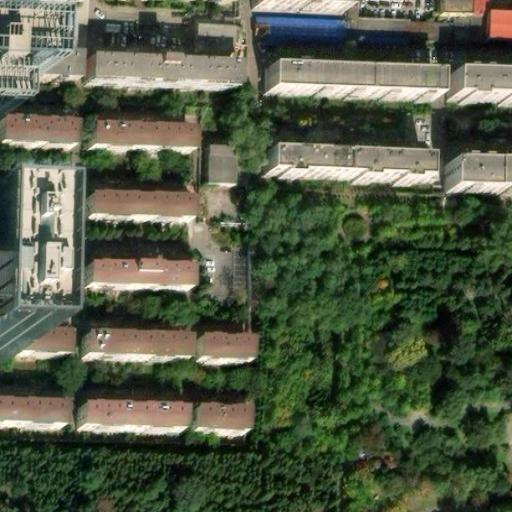building: (266, 68, 439, 105), (268, 149, 430, 185), (92, 53, 240, 91), (96, 117, 202, 152), (92, 187, 200, 221), (92, 259, 198, 292), (92, 323, 195, 354), (0, 109, 82, 146), (87, 401, 192, 429), (257, 14, 347, 45), (0, 318, 78, 351), (444, 160, 512, 193), (205, 330, 261, 358), (198, 407, 256, 433), (465, 65, 512, 96), (208, 142, 241, 183), (194, 22, 237, 53), (263, 0, 358, 11), (488, 10, 512, 43), (443, 0, 478, 12)
